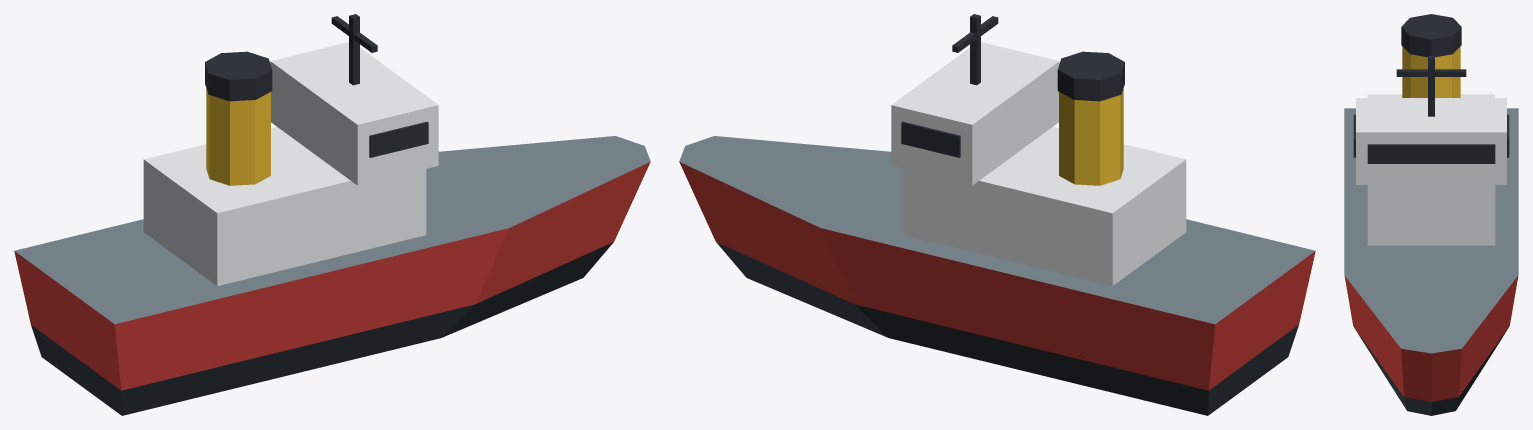
Rendered from icebreaker.glb.
The picture shows the model from 3 angles, left to right: view 1: azimuth 30°, elevation 25°; view 2: azimuth 150°, elevation 25°; view 3: azimuth 270°, elevation 25°; orthographic projection. The views are drawn at different scales.
Parts seen in each view (by area): view 1: icebreaker; view 2: icebreaker; view 3: icebreaker.
Boxes of the visible parts, <box> form: icebreaker: <box>14,14,650,415</box>; icebreaker: <box>679,14,1315,415</box>; icebreaker: <box>1344,14,1518,415</box>.
Bounding box in the file's own units: 1 × 0.5 × 0.3.
